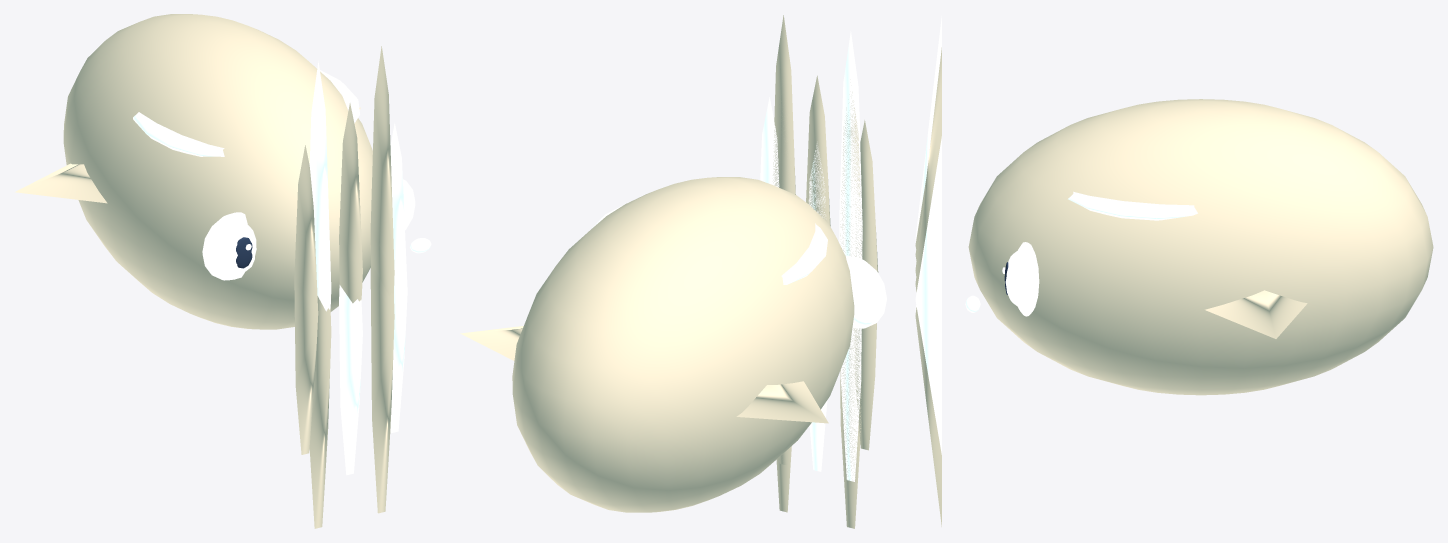
File: copper-inkcap.glb
The picture shows the model from 3 angles, left to right: view 1: azimuth 30°, elevation 25°; view 2: azimuth 150°, elevation 25°; view 3: azimuth 270°, elevation 25°; orthographic projection. The views are drawn at different scales.
Visible parts, largest first — view 1: mantle, tentacle-4, tentacle-7, tentacle-1, tentacle-2, tentacle-0, tentacle-3, tentacle-6, tentacle-5, mantle-crown, swim-fin--1-blade, eye-glow--1 (+1 smaller); view 2: mantle, tentacle-3, tentacle-4, tentacle-1, swim-fin--1-blade, tentacle-2, tentacle-5, eye-glow--1, tentacle-6, mantle-crown, tentacle-0, swim-fin-1-blade (+1 smaller); view 3: mantle, tentacle-0, swim-fin-1-blade, mantle-crown, tentacle-1, eye-glow-1, tentacle-7, tentacle-3.
Boxes of the visible parts, bbox=[...] form: mantle: bbox=[63, 14, 372, 329]; tentacle-4: bbox=[294, 145, 318, 454]; tentacle-7: bbox=[370, 262, 394, 513]; tentacle-1: bbox=[370, 46, 394, 295]; tentacle-2: bbox=[339, 103, 362, 303]; tentacle-0: bbox=[390, 123, 407, 433]; tentacle-3: bbox=[309, 61, 331, 311]; tentacle-6: bbox=[339, 285, 362, 475]; tentacle-5: bbox=[309, 296, 331, 528]; mantle-crown: bbox=[133, 70, 359, 156]; swim-fin--1-blade: bbox=[15, 163, 107, 203]; eye-glow--1: bbox=[202, 212, 247, 280]; mantle: bbox=[512, 177, 854, 512]; tentacle-3: bbox=[839, 31, 862, 481]; tentacle-4: bbox=[854, 120, 878, 450]; tentacle-1: bbox=[773, 15, 795, 465]; swim-fin--1-blade: bbox=[736, 381, 828, 423]; tentacle-2: bbox=[806, 75, 830, 226]; tentacle-5: bbox=[840, 92, 861, 528]; eye-glow--1: bbox=[845, 255, 886, 328]; tentacle-6: bbox=[808, 143, 827, 471]; mantle-crown: bbox=[592, 202, 827, 284]; tentacle-0: bbox=[760, 97, 779, 187]; swim-fin-1-blade: bbox=[460, 326, 523, 360]; mantle: bbox=[968, 99, 1433, 395]; tentacle-0: bbox=[915, 136, 941, 454]; swim-fin-1-blade: bbox=[1205, 290, 1307, 338]; mantle-crown: bbox=[1068, 191, 1197, 220]; tentacle-1: bbox=[915, 47, 941, 286]; eye-glow-1: bbox=[1017, 242, 1039, 316]; tentacle-7: bbox=[915, 307, 941, 526]; tentacle-3: bbox=[915, 16, 941, 241].
Size of the model in its own units: 1.86 by 2.4 by 2.34.
